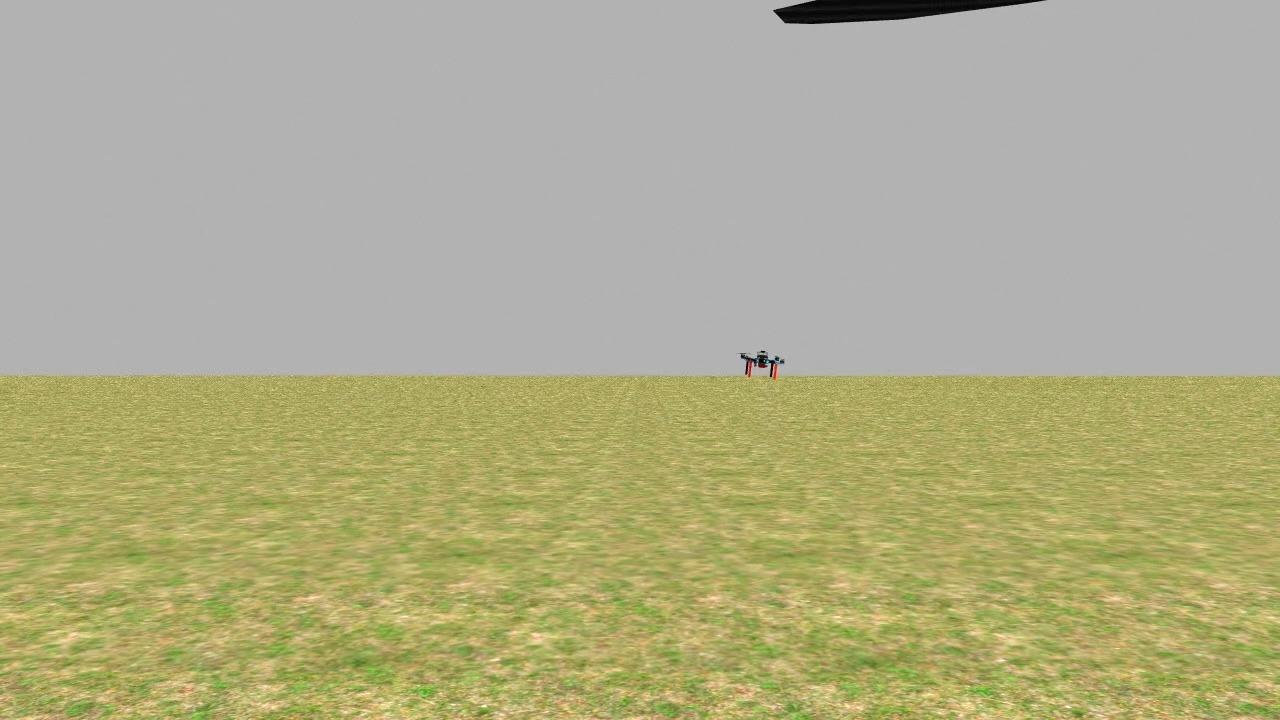UAV: (724, 341, 800, 388)
